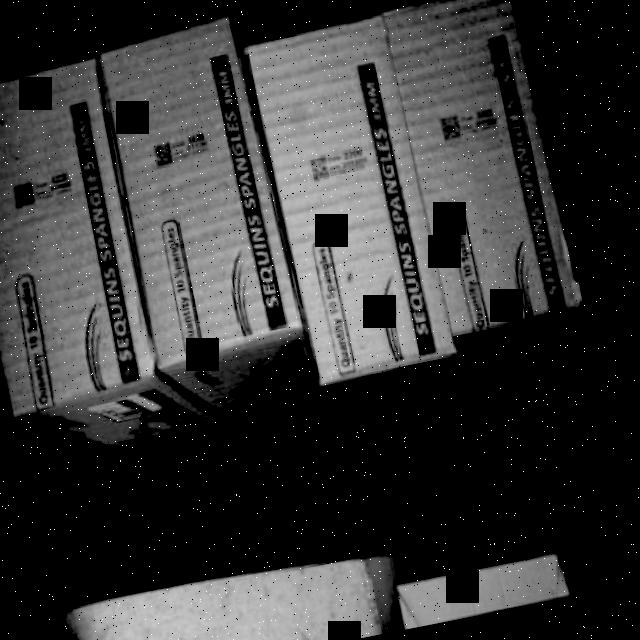box: (248, 16, 454, 383), (99, 19, 306, 367), (388, 0, 583, 329), (0, 54, 158, 405)
